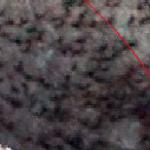alive: (5, 6, 148, 148)
